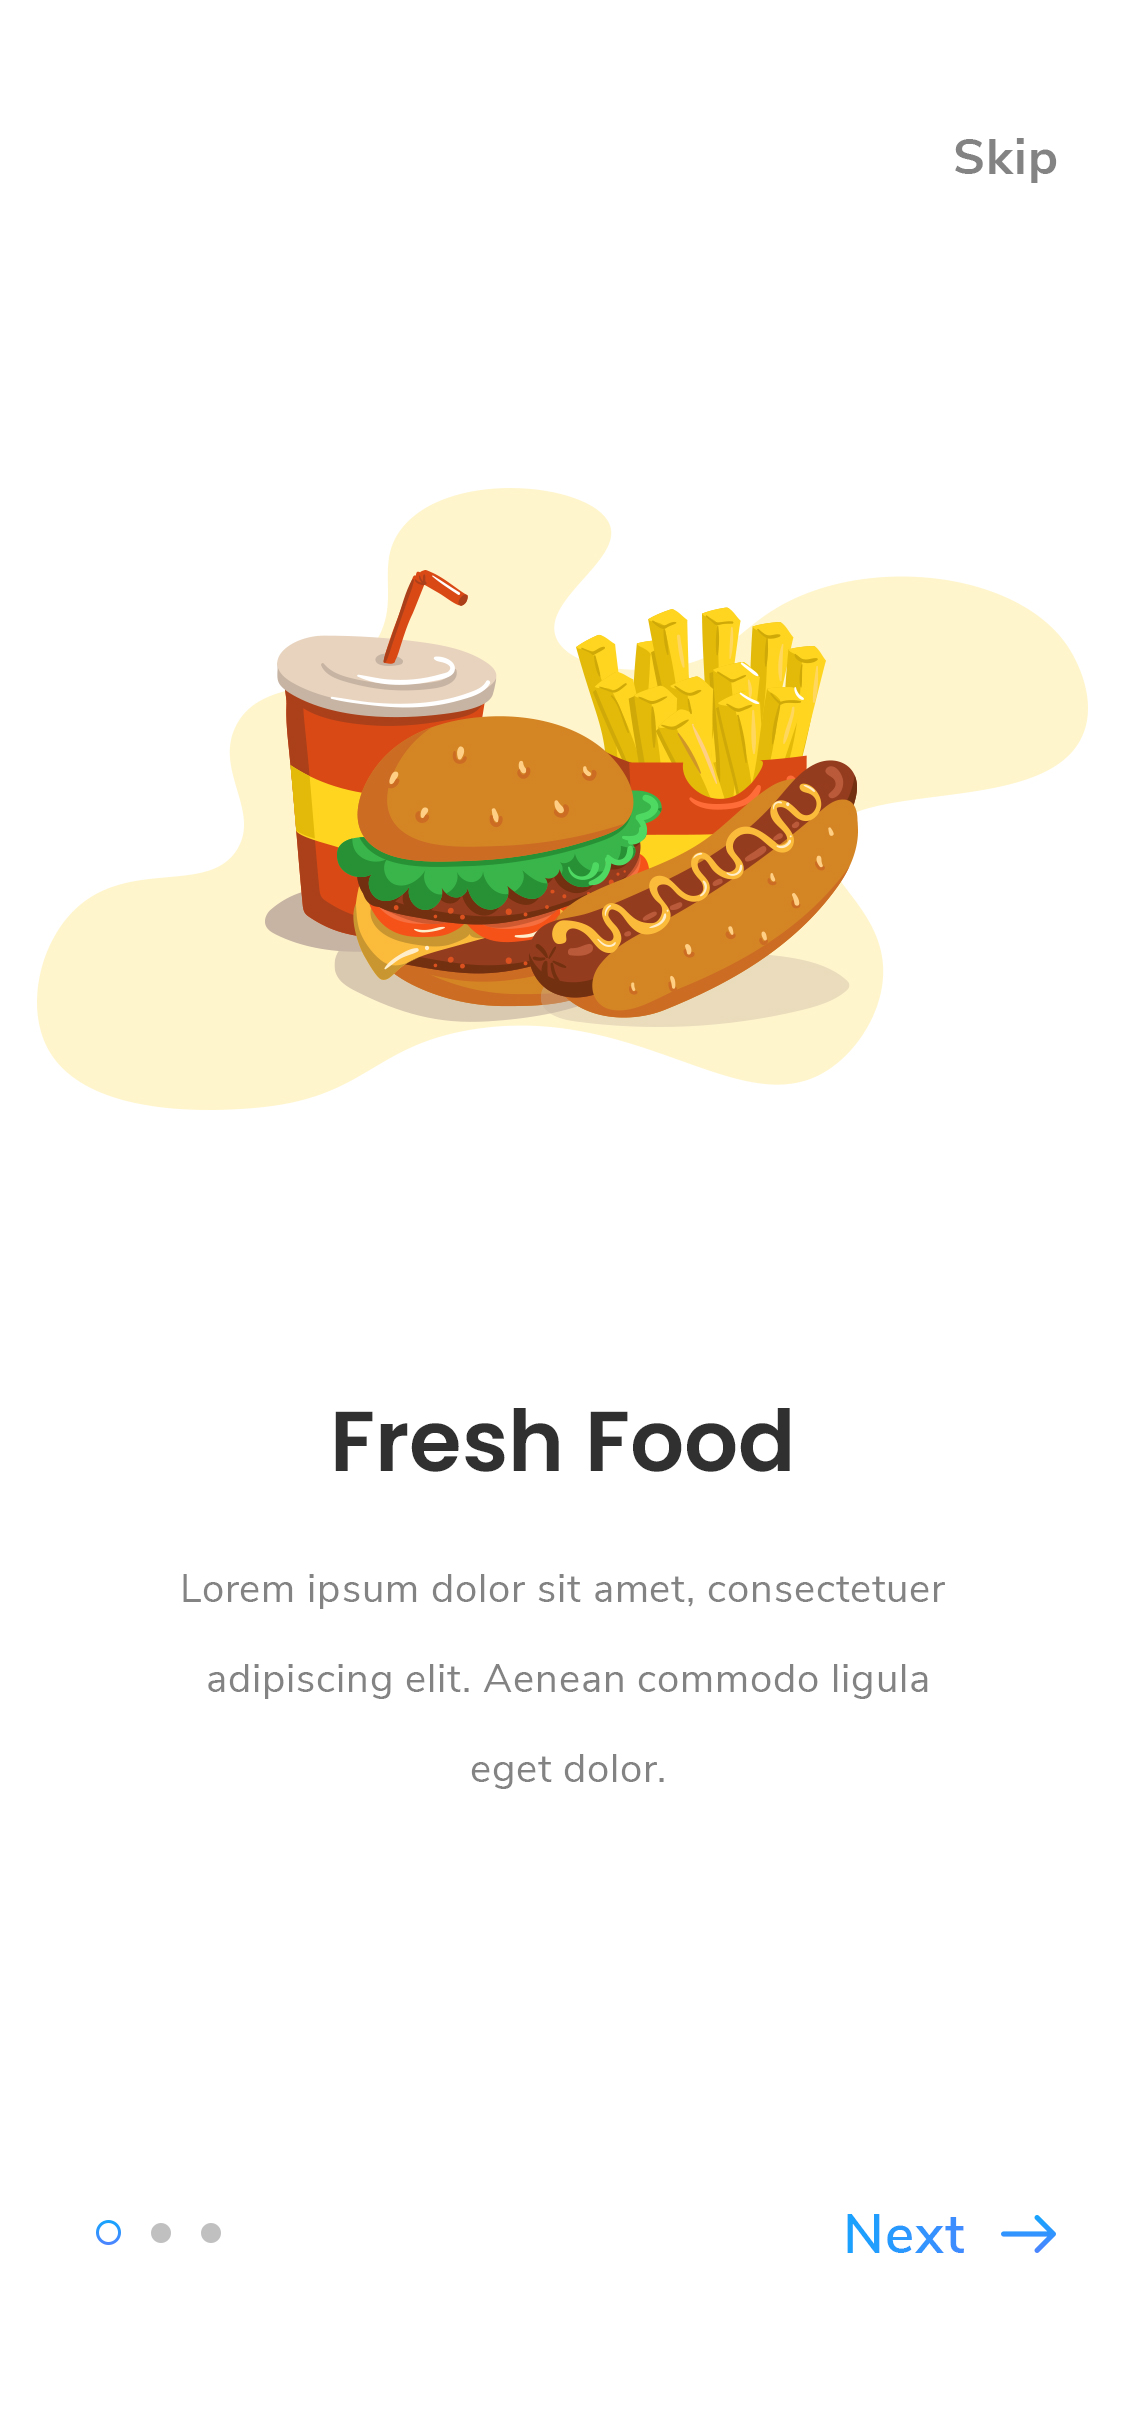Icon: (1001, 2212, 1057, 2254)
Image: (37, 486, 1089, 1112)
PageIndicator: (96, 2218, 224, 2246)
Text: (183, 1574, 946, 1790), (336, 1408, 791, 1473), (847, 2212, 965, 2254), (954, 138, 1057, 185)
